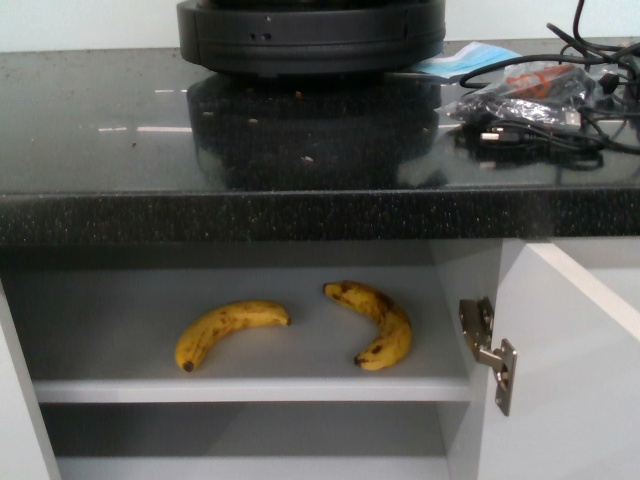banana: (175, 295, 288, 374), (319, 278, 411, 373)
